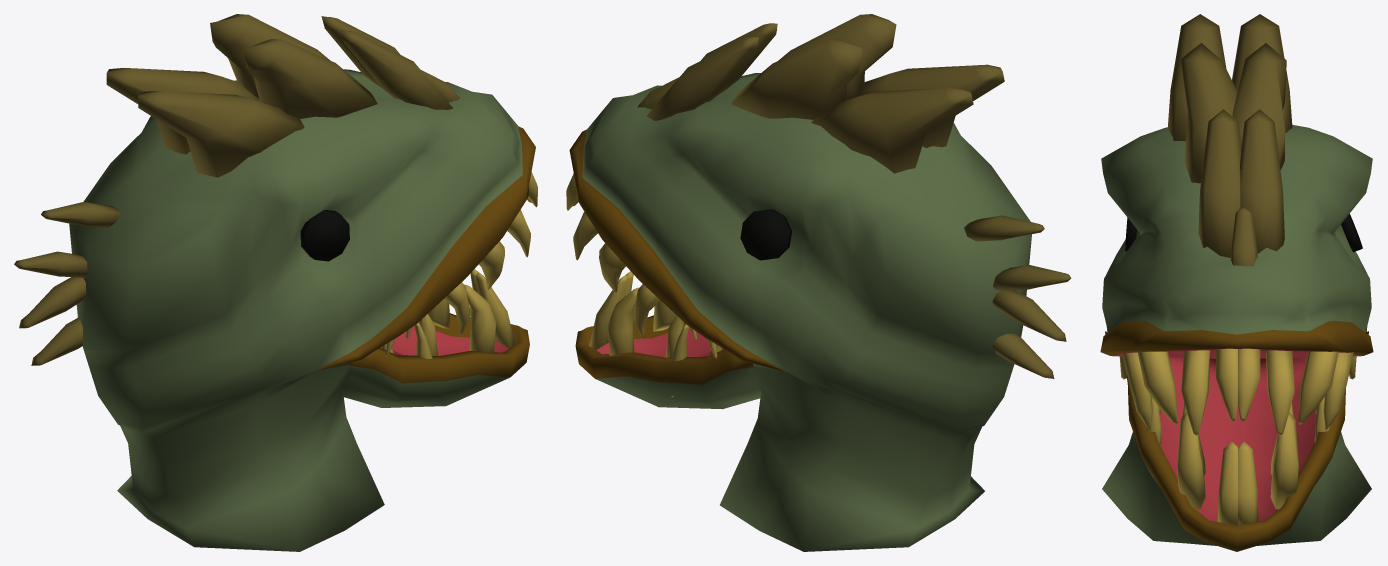
The model's file is Dinosaur.glb.
The picture shows the model from 3 angles, left to right: view 1: azimuth 30°, elevation 25°; view 2: azimuth 150°, elevation 25°; view 3: azimuth 270°, elevation 25°; orthographic projection. The views are drawn at different scales.
Parts seen in each view (by area): view 1: Cylinder.033; view 2: Cylinder.033; view 3: Cylinder.033.
Part boxes in pixels (x1,y1,x2,y2): Cylinder.033: [14, 14, 537, 551]; Cylinder.033: [566, 14, 1071, 551]; Cylinder.033: [1100, 14, 1373, 551].
Bounding box in the file's own units: 1.68 × 1.47 × 0.8132.
